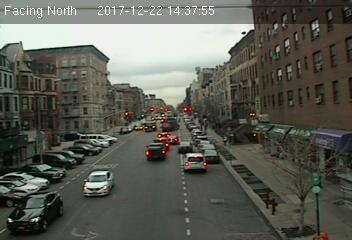car: (5, 188, 65, 234), (83, 170, 113, 196), (183, 151, 206, 172), (145, 142, 167, 160), (202, 149, 220, 162), (178, 140, 193, 154)
